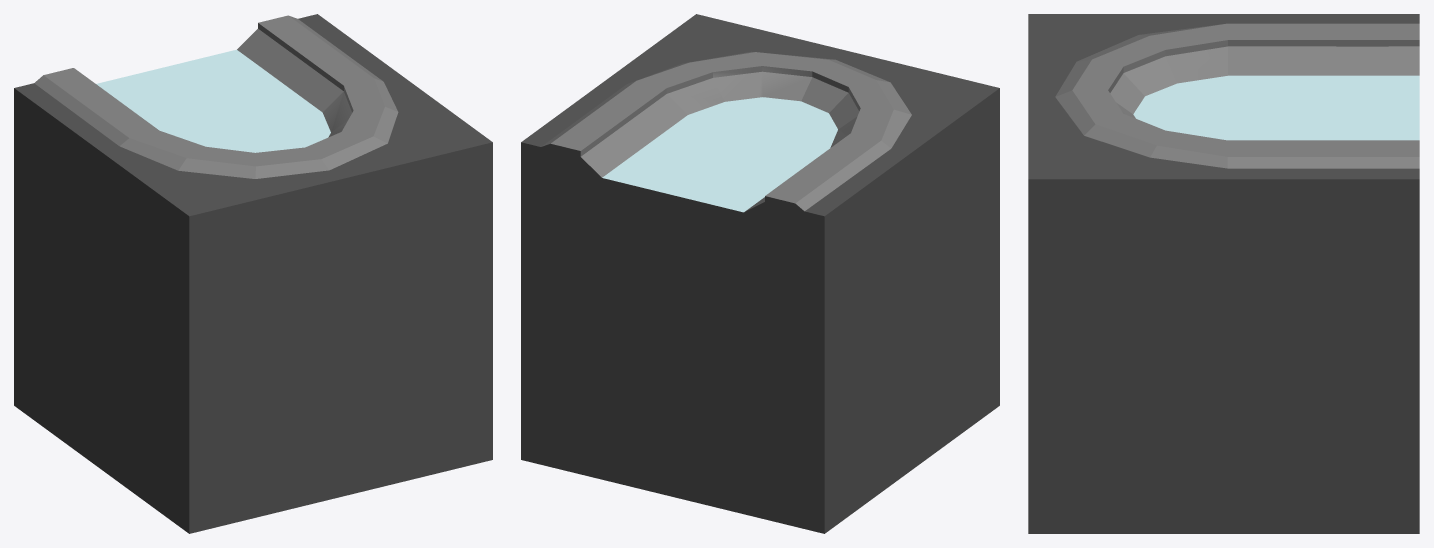
The model's file is blockRiverCityEnd.fbx.
The picture shows the model from 3 angles, left to right: view 1: azimuth 30°, elevation 25°; view 2: azimuth 150°, elevation 25°; view 3: azimuth 270°, elevation 25°; orthographic projection. The views are drawn at different scales.
Visible parts, largest first — view 1: blockRiverCityEnd; view 2: blockRiverCityEnd; view 3: blockRiverCityEnd.
Boxes of the visible parts, x1=… form: blockRiverCityEnd: x1=14, y1=14, x2=492, y2=533; blockRiverCityEnd: x1=521, y1=14, x2=999, y2=533; blockRiverCityEnd: x1=1028, y1=14, x2=1419, y2=533.
Size of the model in its own units: 1 by 1.02 by 1.
